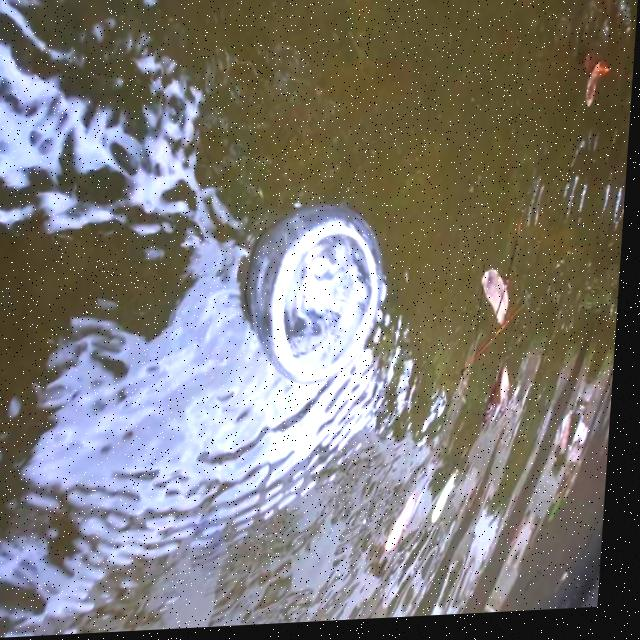leaf: (554, 41, 636, 118), (466, 259, 537, 337), (477, 355, 533, 452)
waterbottle: (227, 194, 406, 417)
